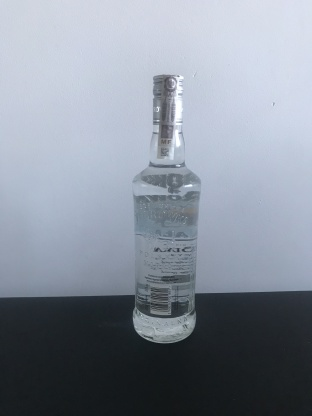nakretka: (150, 70, 185, 127)
